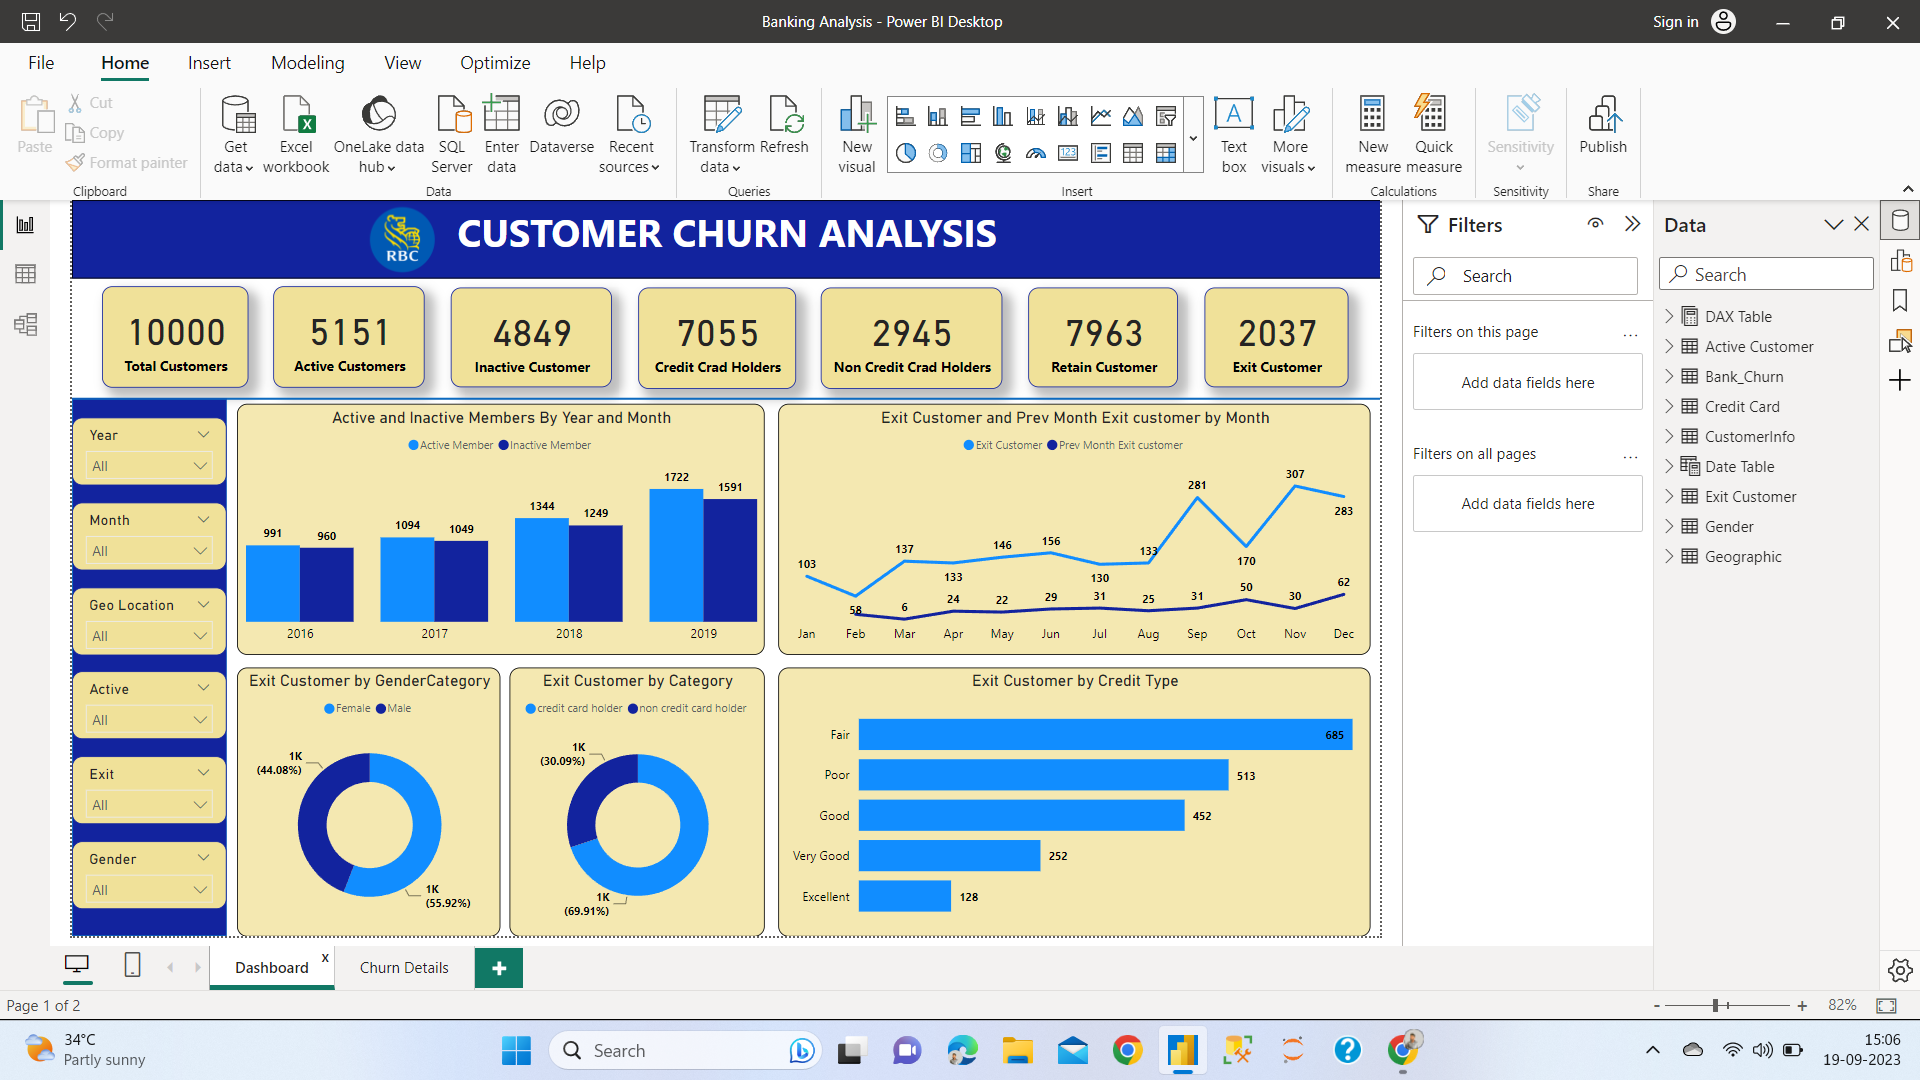

This screenshot's page, from the dashboard's own definition file:
{"tool":"powerbi","page":{"name":"Dashboard","canvas":[1280,720],"ordinal":0},"visuals":[{"type":"card","fields":{"Values":["DAX Table.Count of Customers"]},"box":[29.1,84.1,143,99],"z":0},{"type":"card","fields":{"Values":["DAX Table.Active Customers"]},"box":[197.4,84.1,147.9,99],"z":1000},{"type":"card","fields":{"Values":["DAX Table.Inactive Customer"]},"box":[370.6,85.3,157.7,97.8],"z":2000},{"type":"card","fields":{"Values":["DAX Table.Credit Crad Holders"]},"box":[553.5,85.3,154,99],"z":3000},{"type":"card","fields":{"Values":["DAX Table.Non Credit Crad Holders"]},"box":[732.8,85.3,177.2,99],"z":4000},{"type":"card","fields":{"Values":["DAX Table.Exit Customer"]},"box":[1107.3,85.3,140.6,97.8],"z":5000},{"type":"card","fields":{"Values":["DAX Table.Retain Customer"]},"box":[935.3,85.3,146.7,97.8],"z":6000},{"type":"textbox","box":[0,0,1279.9,77],"z":7000},{"type":"image","box":[260.4,0,124.7,77],"z":8000},{"type":"shape","box":[0,121,1279.9,146.7],"z":9000},{"type":"shape","box":[0,194.4,151.6,525.6],"z":10000},{"type":"slicer","fields":{"Values":["Date Table.Year"]},"box":[0,212.7,151.6,66],"z":11000},{"type":"slicer","fields":{"Values":["Date Table.Month Name"]},"box":[0,295.6,151.6,66],"z":12000},{"type":"slicer","fields":{"Values":["Geographic.GeographyLocation"]},"box":[0,378.5,151.6,66],"z":13000},{"type":"slicer","fields":{"Values":["Active Customer.ActiveCategory"]},"box":[0,461.3,151.6,66],"z":14000},{"type":"slicer","fields":{"Values":["Exit Customer.ExitCategory"]},"box":[0,544.2,151.6,66],"z":15000},{"type":"slicer","fields":{"Values":["Gender.GenderCategory"]},"box":[0,627.1,151.6,66],"z":16000},{"type":"clusteredColumnChart","title":"Active and Inactive Members By Year and Month","fields":{"Category":["Date Table.Year","Date Table.Month Name"],"Y":["DAX Table.Count of Customers"],"Series":["Active Customer.ActiveCategory"]},"box":[161.4,199.3,515.9,245.7],"z":17000},{"type":"lineChart","title":"Exit Customer and Prev Month Exit customer by Month","fields":{"Y":["DAX Table.Exit Customer","DAX Table.Prev Month Exit customer"],"Category":["Date Table.Month Name"]},"box":[690.7,199.3,579.4,245.7],"z":18000},{"type":"donutChart","fields":{"Y":["DAX Table.Exit Customer"],"Category":["Gender.GenderCategory"]},"box":[161.4,457.2,257.9,262.8],"z":19000},{"type":"barChart","fields":{"Y":["DAX Table.Exit Customer"],"Category":["Bank_Churn.Credit Type"]},"box":[690.7,457.2,579.4,262.8],"z":20000},{"type":"donutChart","fields":{"Y":["DAX Table.Exit Customer"],"Category":["Credit Card.Category"]},"box":[427.8,457.2,249.4,262.8],"z":21000}]}

Visuals, with their boxes on the page's 1280x720 design canvas (x1, y1, x2, y2). These are canvas units, not pixel positions in the 1920x1080 screenshot, which may show the page scaled, cropped or inside an application window:
card - DAX Table.Count of Customers: l=29, t=84, r=172, b=183
card - DAX Table.Active Customers: l=197, t=84, r=345, b=183
card - DAX Table.Inactive Customer: l=371, t=85, r=528, b=183
card - DAX Table.Credit Crad Holders: l=554, t=85, r=708, b=184
card - DAX Table.Non Credit Crad Holders: l=733, t=85, r=910, b=184
card - DAX Table.Exit Customer: l=1107, t=85, r=1248, b=183
card - DAX Table.Retain Customer: l=935, t=85, r=1082, b=183
textbox: l=0, t=0, r=1280, b=77
image: l=260, t=0, r=385, b=77
shape: l=0, t=121, r=1280, b=268
shape: l=0, t=194, r=152, b=720
slicer - Date Table.Year: l=0, t=213, r=152, b=279
slicer - Date Table.Month Name: l=0, t=296, r=152, b=362
slicer - Geographic.GeographyLocation: l=0, t=378, r=152, b=444
slicer - Active Customer.ActiveCategory: l=0, t=461, r=152, b=527
slicer - Exit Customer.ExitCategory: l=0, t=544, r=152, b=610
slicer - Gender.GenderCategory: l=0, t=627, r=152, b=693
"Active and Inactive Members By Year and Month" clusteredColumnChart: l=161, t=199, r=677, b=445
"Exit Customer and Prev Month Exit customer by Month" lineChart: l=691, t=199, r=1270, b=445
donutChart - DAX Table.Exit Customer x Gender.GenderCategory: l=161, t=457, r=419, b=720
barChart - DAX Table.Exit Customer x Bank_Churn.Credit Type: l=691, t=457, r=1270, b=720
donutChart - DAX Table.Exit Customer x Credit Card.Category: l=428, t=457, r=677, b=720
